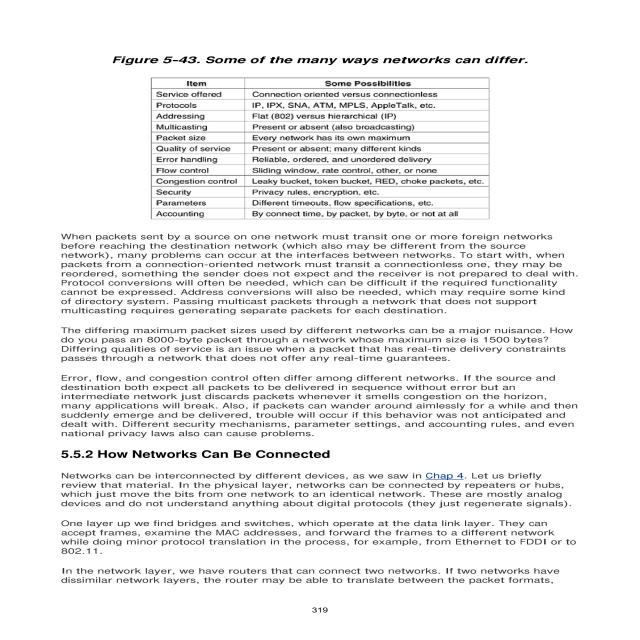diagram: (72, 46, 590, 226)
